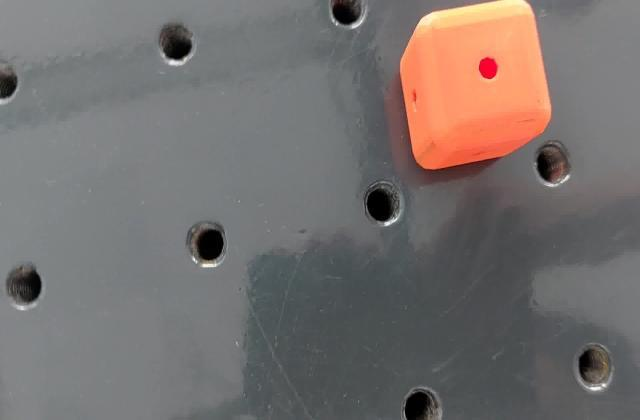cube: (396, 0, 554, 172)
